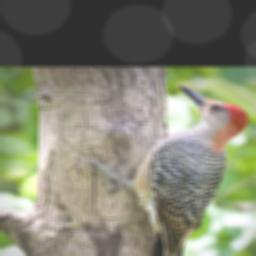Woodpecker: (68, 82, 256, 256)
